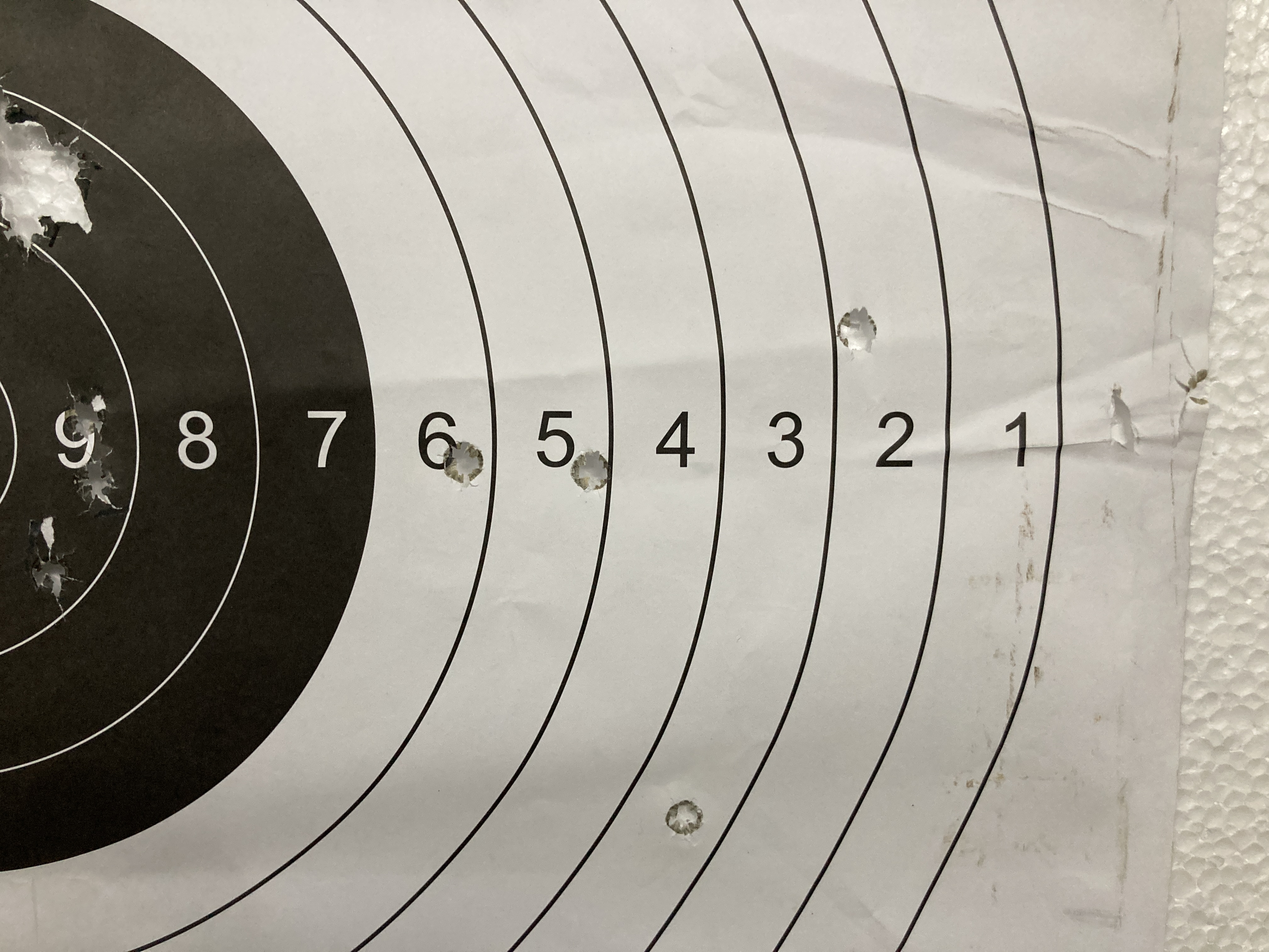hole: (0, 90, 140, 262), (44, 373, 122, 455), (14, 538, 85, 623), (64, 460, 138, 534), (826, 297, 895, 363), (432, 430, 497, 495), (561, 444, 619, 497), (658, 789, 711, 840)
